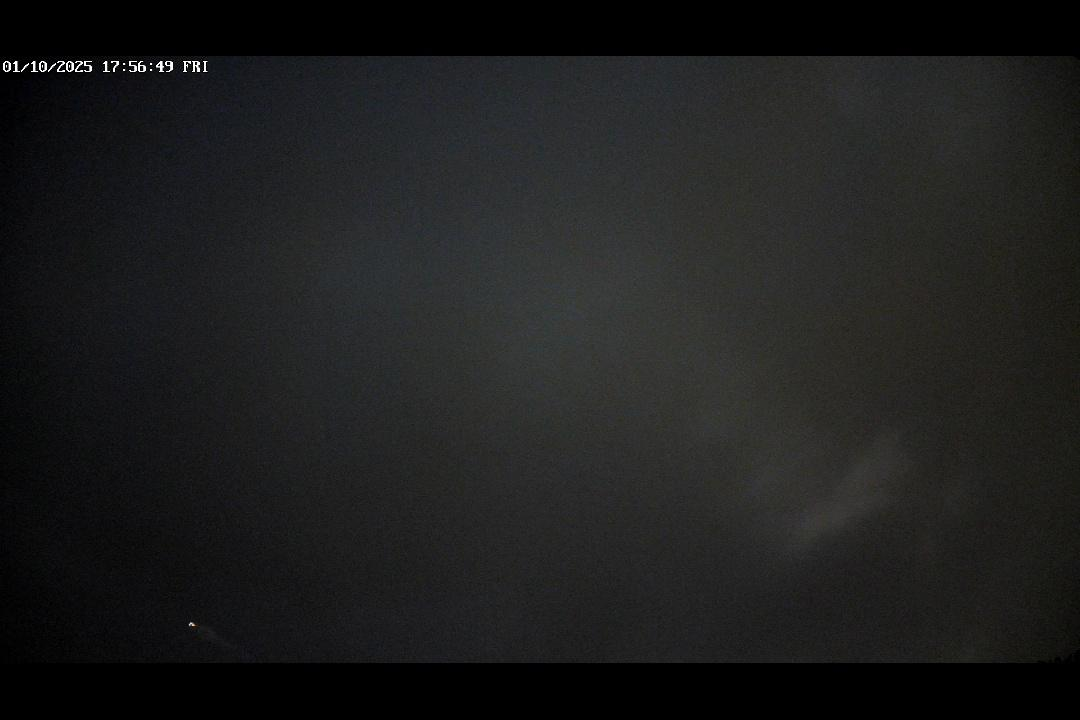Plane: (180, 618, 224, 641)
